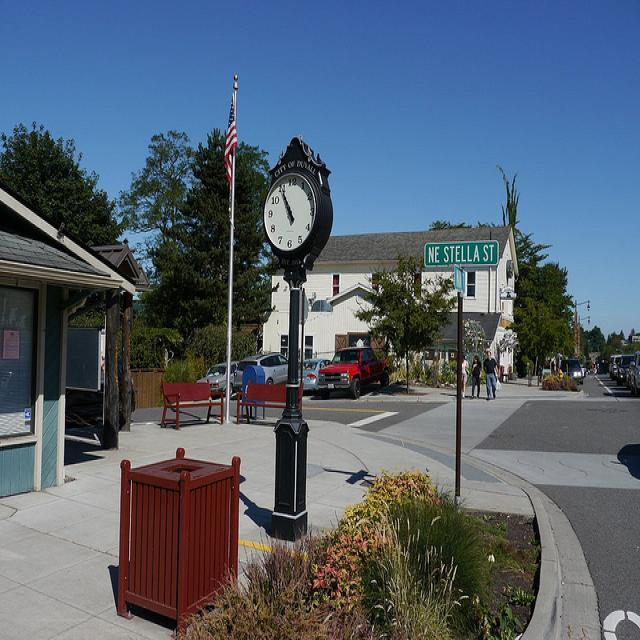fire_hydrant: (558, 368, 563, 380)
